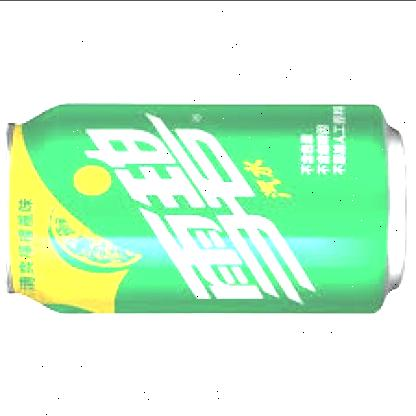Can: (2, 100, 408, 314)
